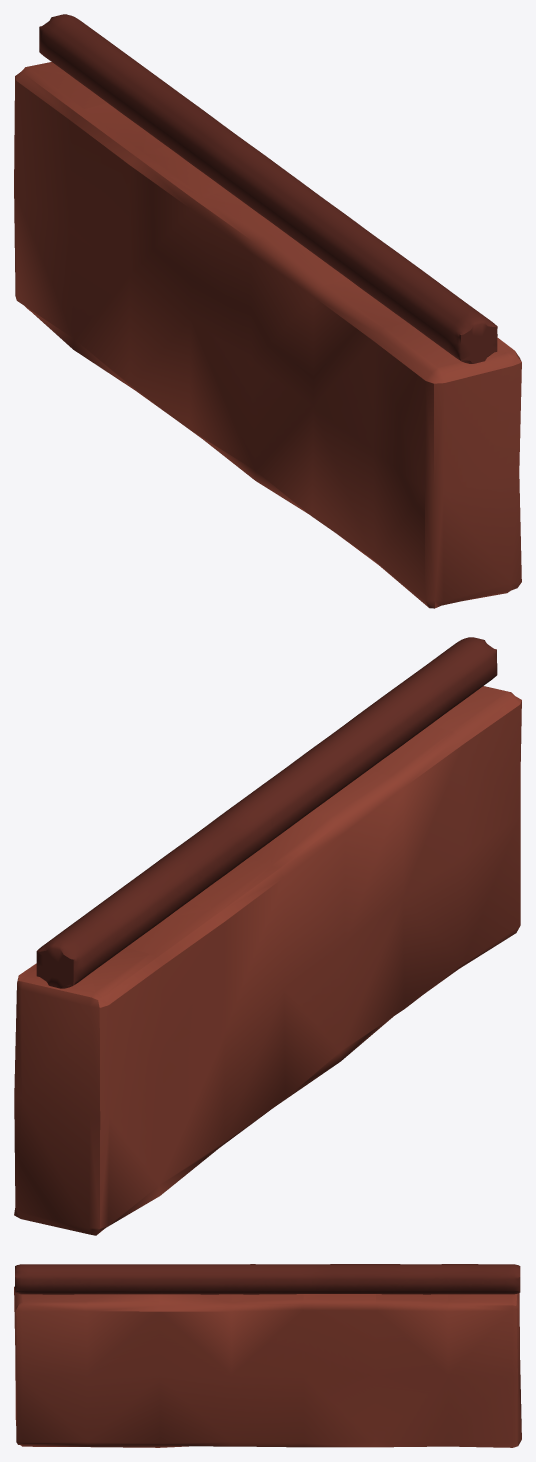
The model's file is den_bed_rail.glb.
The picture shows the model from 3 angles, top to bottom: view 1: azimuth 30°, elevation 25°; view 2: azimuth 150°, elevation 25°; view 3: azimuth 270°, elevation 25°; orthographic projection. The views are drawn at different scales.
Parts seen in each view (by area): view 1: den_bed_rail; view 2: den_bed_rail; view 3: den_bed_rail.
Boxes of the visible parts, x1=… form: den_bed_rail: x1=14, y1=14, x2=521, y2=608; den_bed_rail: x1=14, y1=637, x2=521, y2=1235; den_bed_rail: x1=14, y1=1264, x2=521, y2=1447.
Bounding box in the file's own units: 3.2 × 9 × 24.13.
